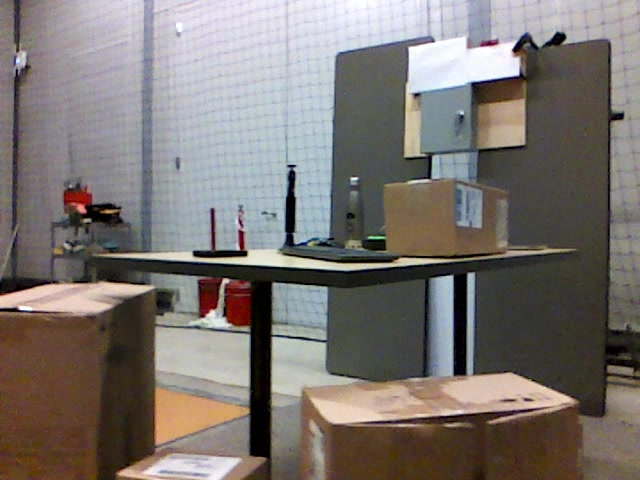box: (1, 283, 155, 480), (301, 372, 580, 480), (382, 179, 509, 256), (117, 447, 268, 480)
